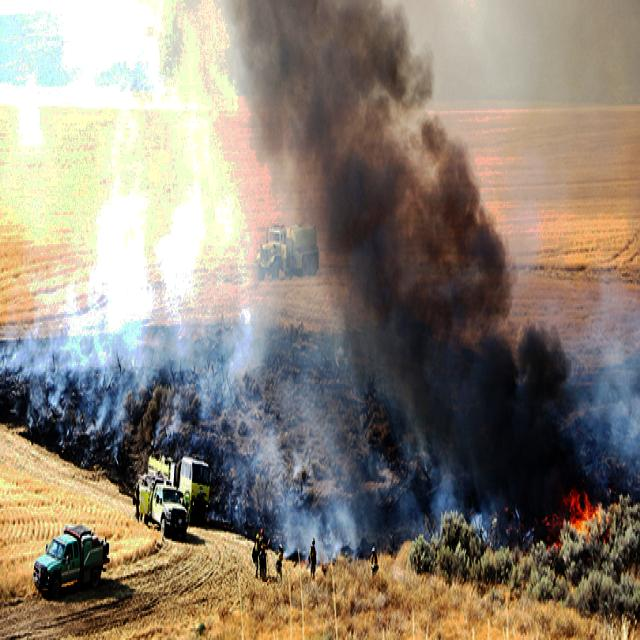api: (565, 489, 600, 534)
asap: (241, 1, 554, 520), (53, 230, 238, 430), (564, 288, 640, 479)
